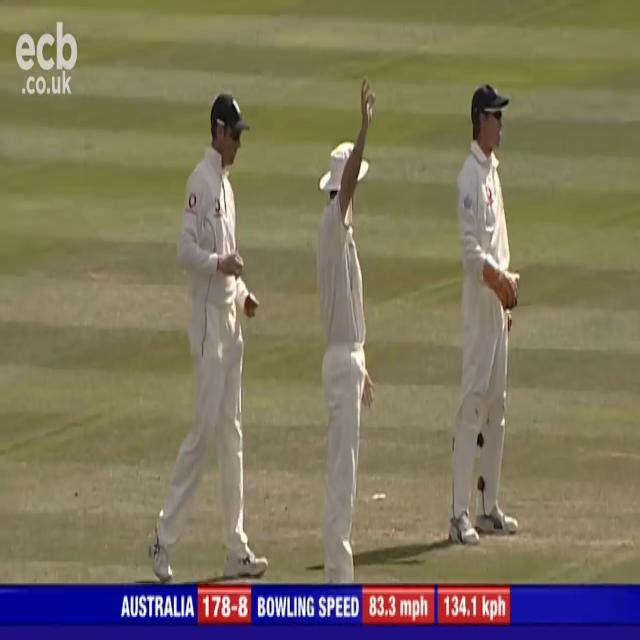ball: (244, 290, 258, 313)
